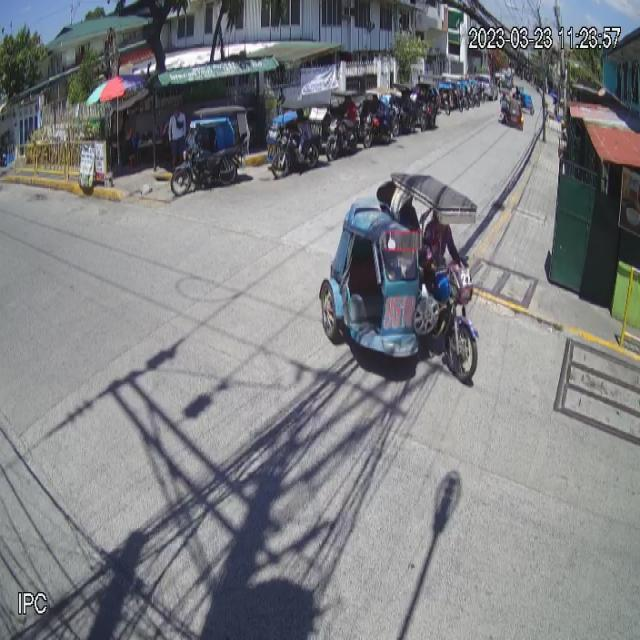Tricycle: (320, 172, 481, 380)
